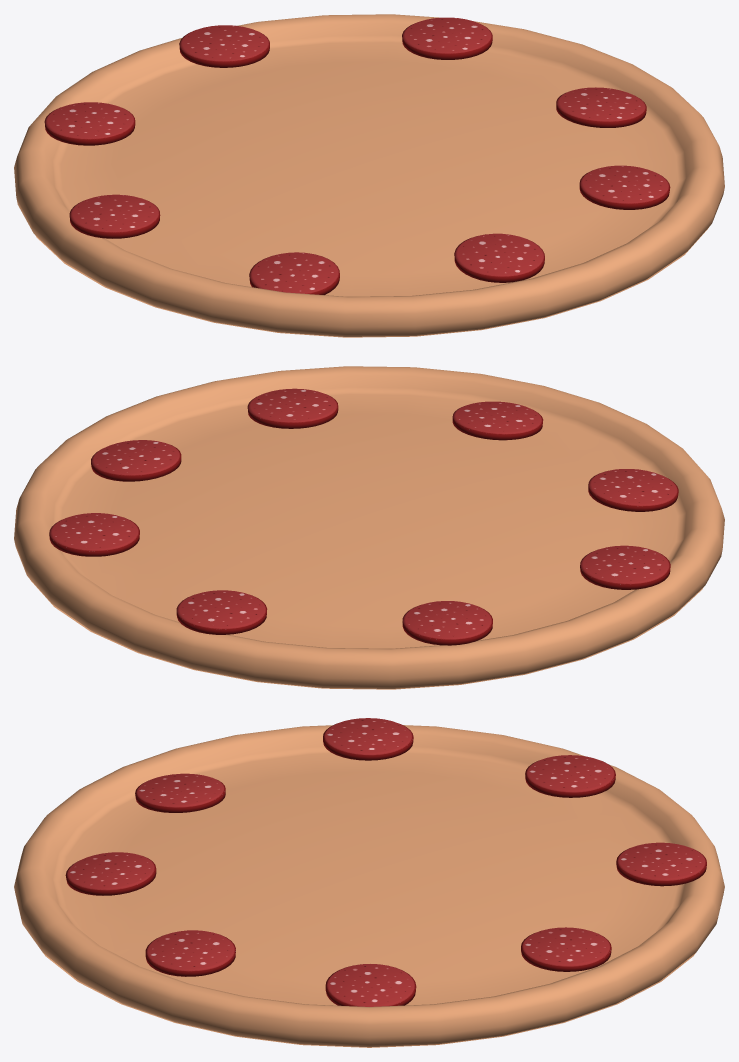
Rendered from pepperonibakeddough.glb.
3 views of the same model, one above another, from view 1: azimuth 30°, elevation 25°; view 2: azimuth 150°, elevation 25°; view 3: azimuth 270°, elevation 25° (orthographic).
Parts seen in each view (by area): view 1: Dough.002; view 2: Dough.002; view 3: Dough.002.
Boxes of the visible parts, box(x1,y1,x2,y2) form: Dough.002: box(14, 14, 724, 337); Dough.002: box(14, 366, 724, 689); Dough.002: box(14, 718, 724, 1047).
Bounding box in the file's own units: 2.53 × 0.2017 × 2.53.
10 materials, 8 textured.
